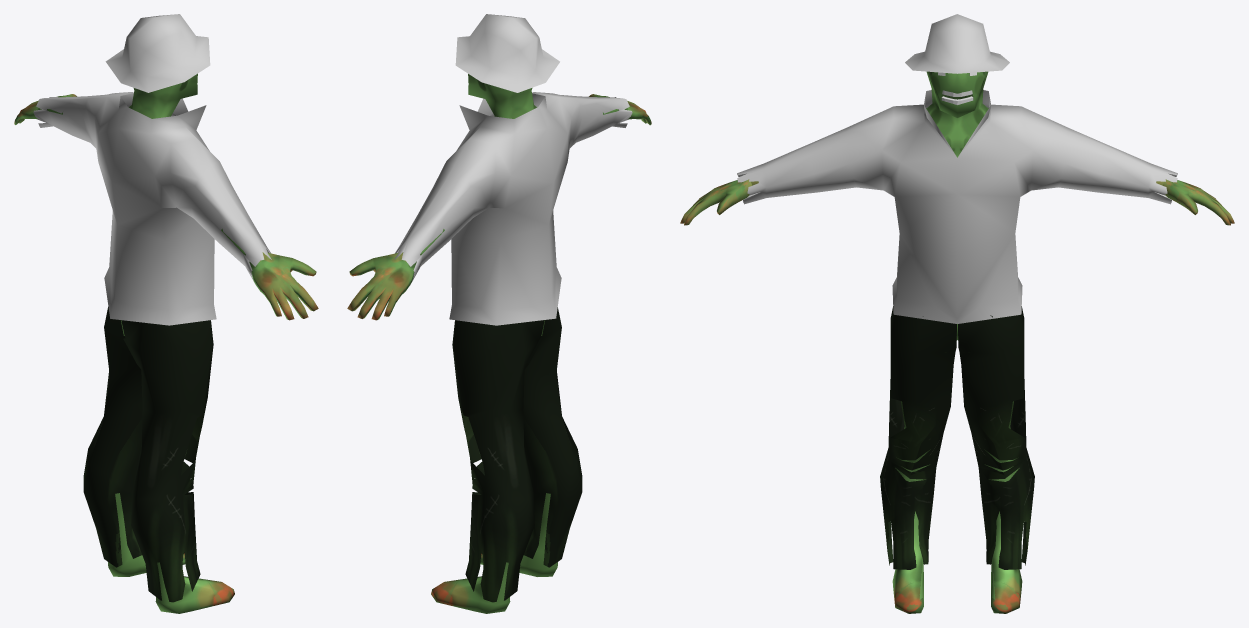
The model's file is zombie4.fbx.
3 views of the same model, side by side, from view 1: azimuth 30°, elevation 25°; view 2: azimuth 150°, elevation 25°; view 3: azimuth 270°, elevation 25° (orthographic).
Parts seen in each view (by area): view 1: shirt, Cube.002, Cube.001, Cube.011; view 2: shirt, Cube.002, Cube.001, Cube.011; view 3: shirt, Cube.002, Cube.001, Cube.011.
Boxes of the visible parts, x1,y1,x2,y2 form: shirt: (33, 92, 271, 325); Cube.002: (83, 307, 213, 602); Cube.001: (14, 73, 318, 613); Cube.011: (105, 14, 210, 92); shirt: (394, 92, 632, 325); Cube.002: (452, 307, 582, 602); Cube.001: (347, 74, 651, 613); Cube.011: (455, 14, 559, 92); shirt: (737, 90, 1177, 323); Cube.002: (880, 306, 1034, 569); Cube.001: (680, 71, 1234, 613); Cube.011: (905, 14, 1009, 73).
Size of the model in its own units: 35.07 by 190 by 167.
